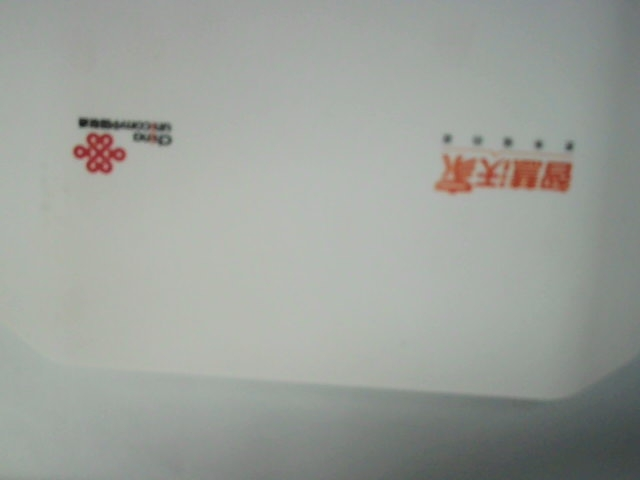AC_ChinaUnicom: (44, 97, 194, 189)
